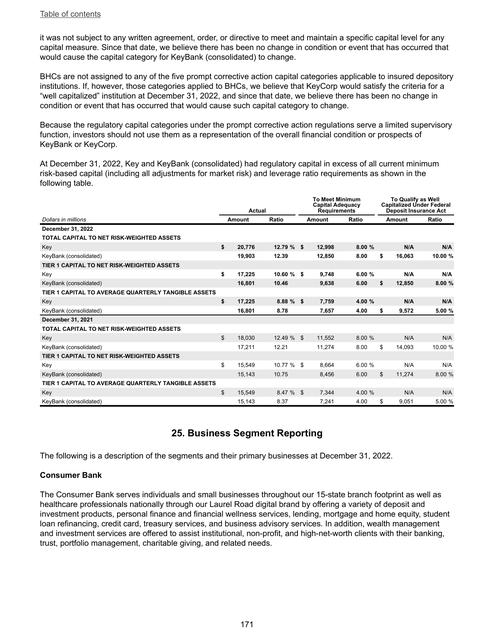box: (39, 197, 457, 409)
